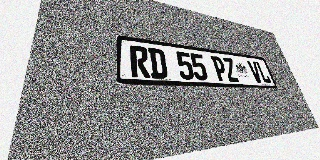5: (175, 51, 195, 80), (190, 53, 209, 81)
D: (148, 47, 168, 79)
L: (255, 62, 272, 83)
P: (210, 56, 229, 81)
R: (129, 45, 150, 78)
V: (247, 60, 263, 83)
Z: (222, 57, 240, 82)
